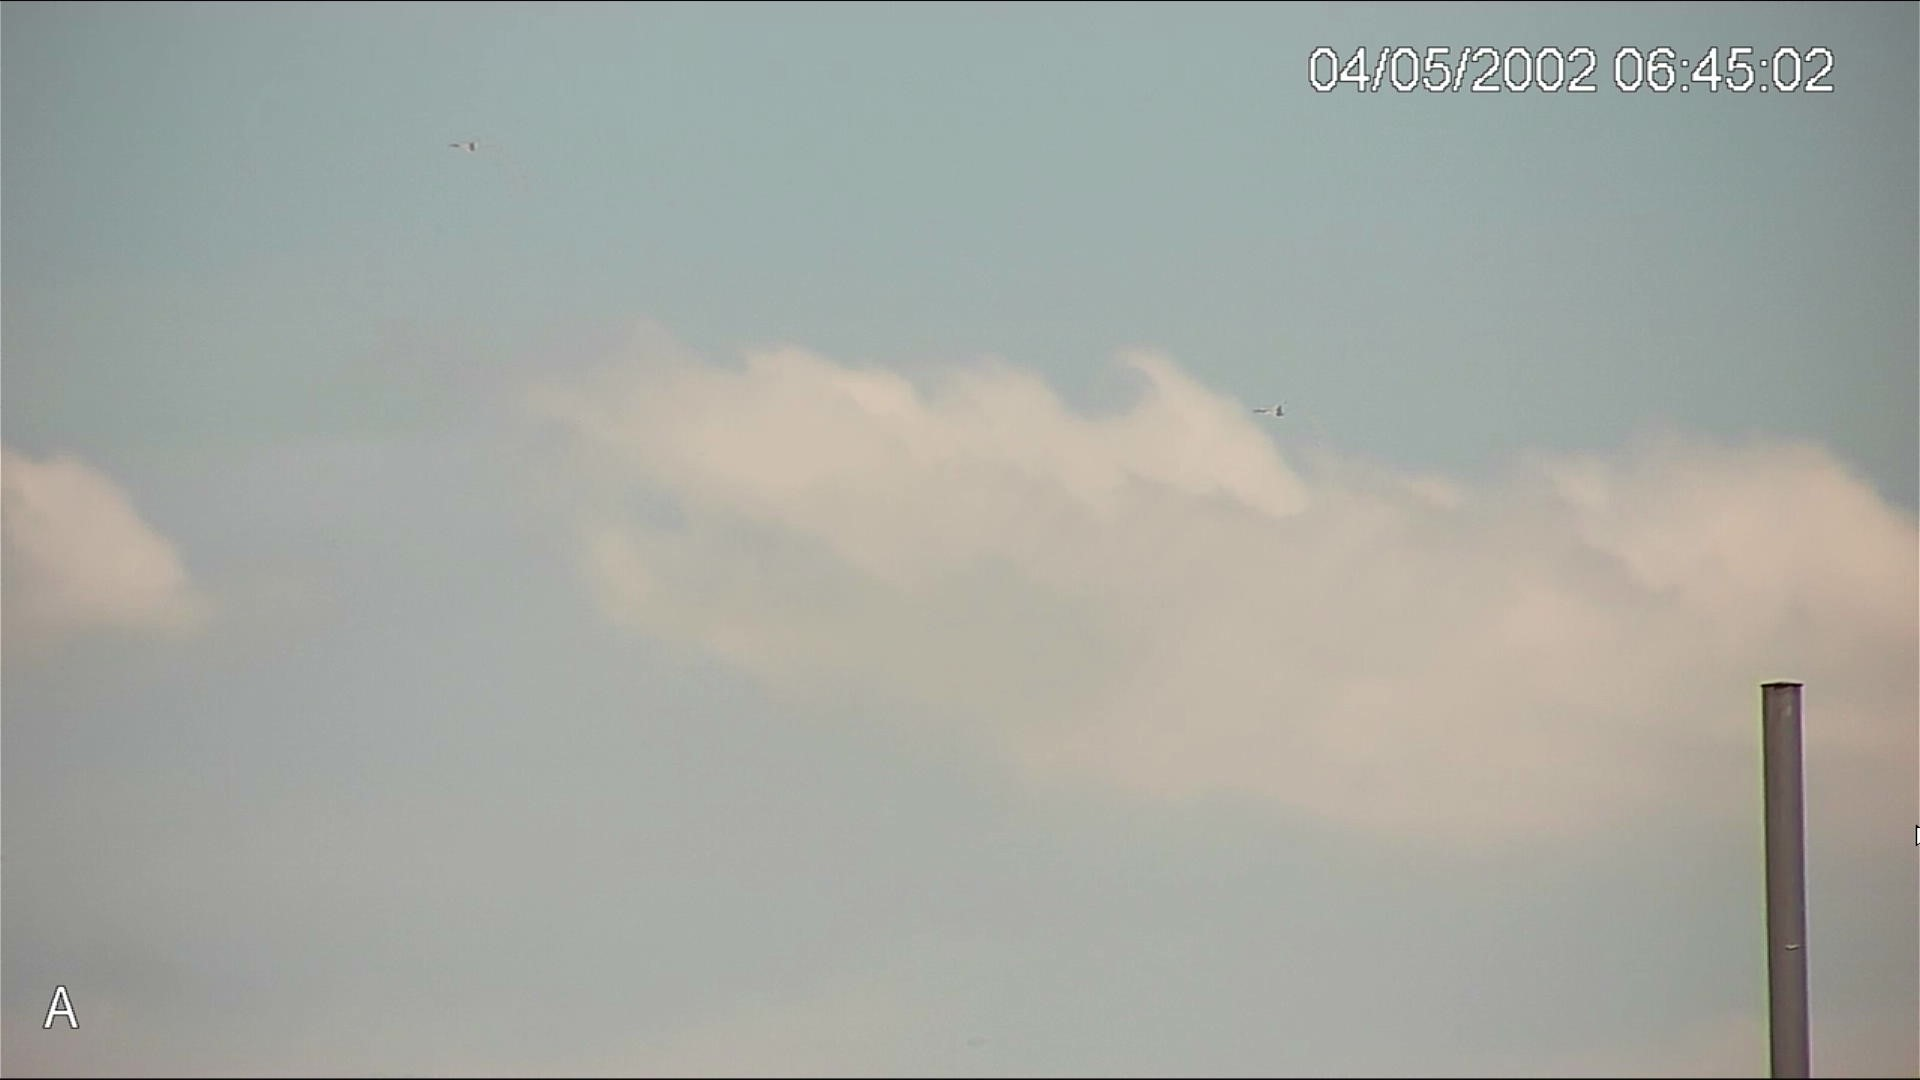SU_30: (1251, 400, 1284, 423), (447, 138, 483, 152)
